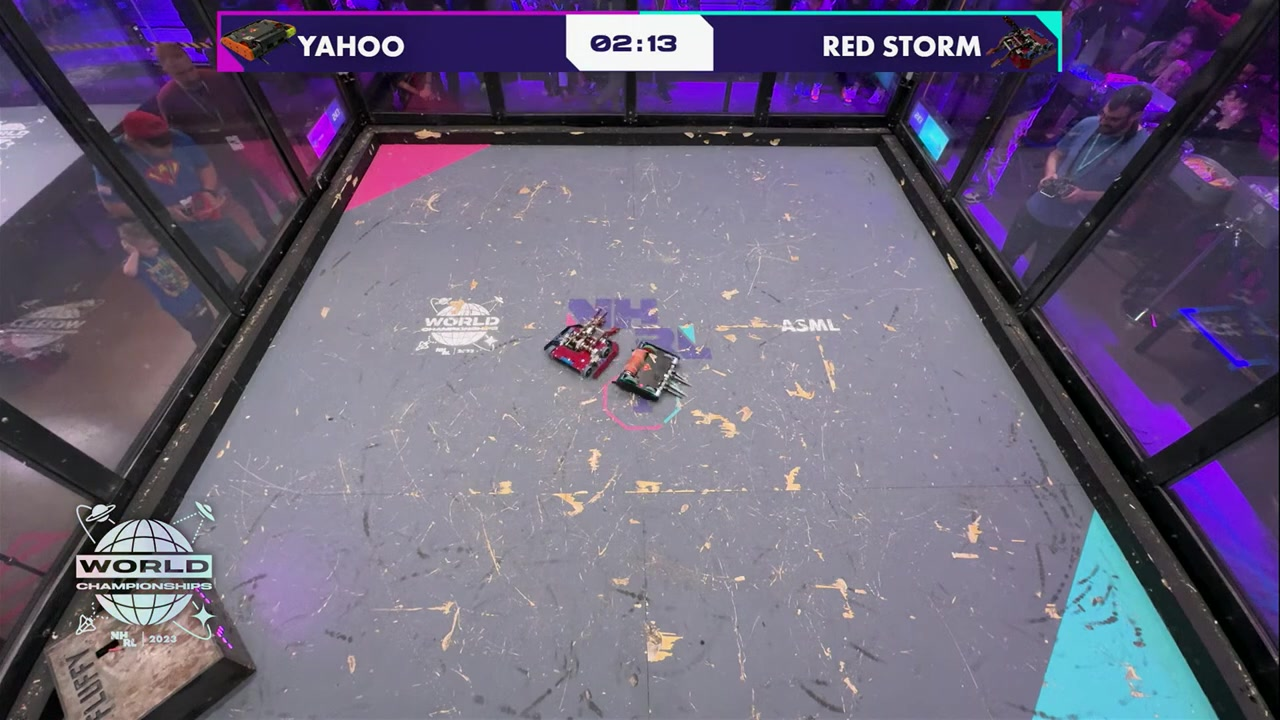combatbot: (543, 323, 619, 382), (619, 342, 679, 407)
housebot: (46, 591, 257, 718)
